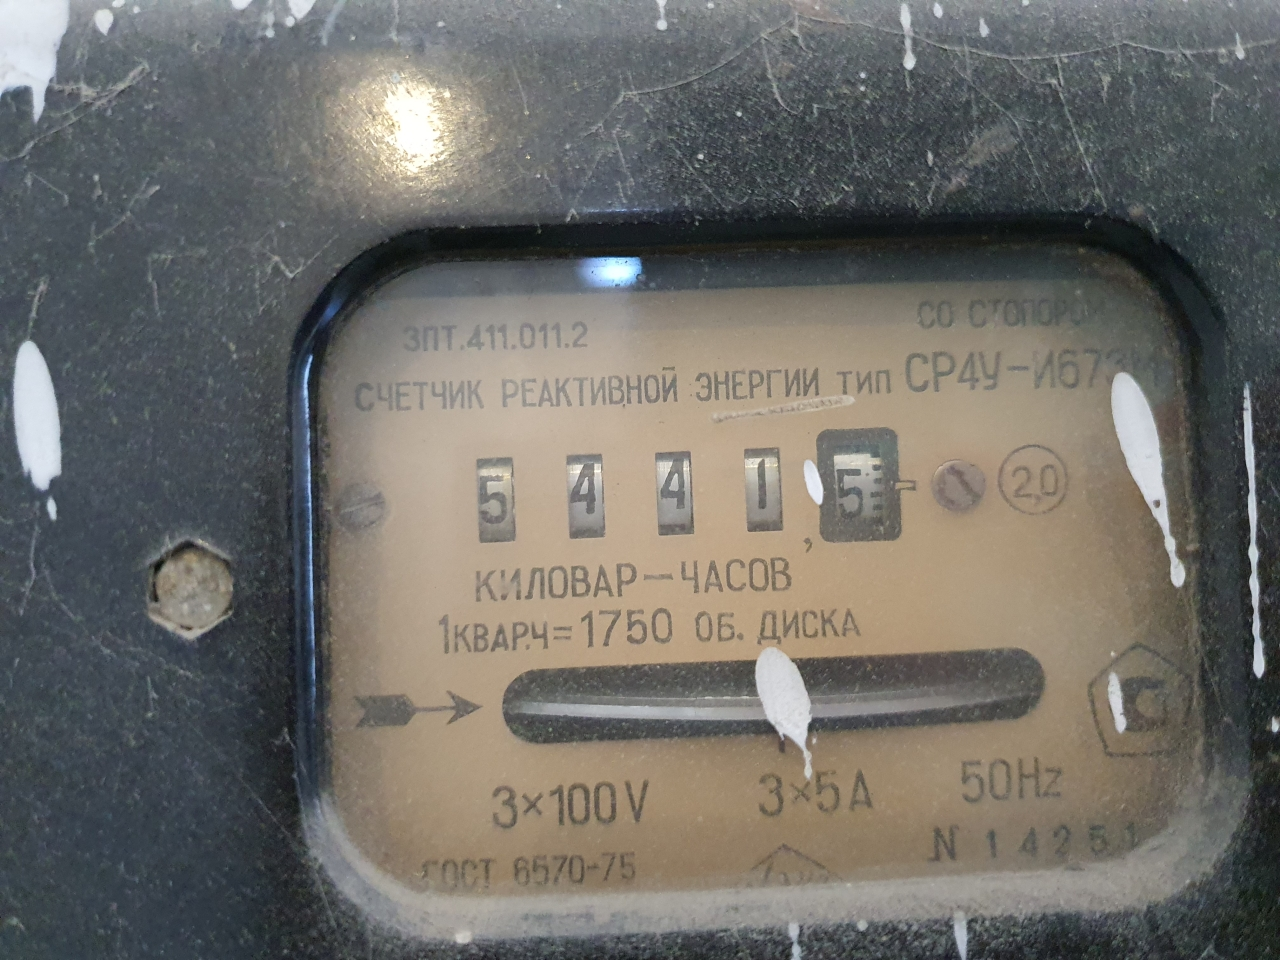1: (749, 455, 773, 513)
4: (654, 452, 691, 517), (566, 457, 601, 519)
5: (833, 462, 868, 524), (474, 471, 512, 528)
screen: (452, 405, 925, 571)
